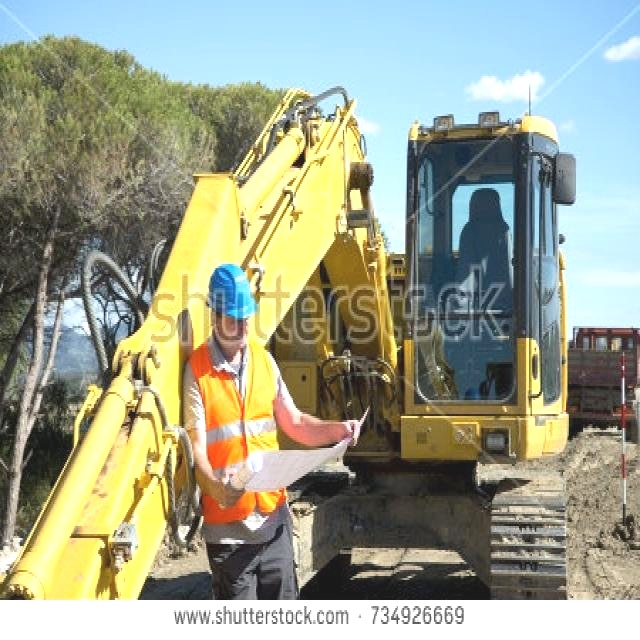Con_Chaleco: (195, 342, 286, 531)
